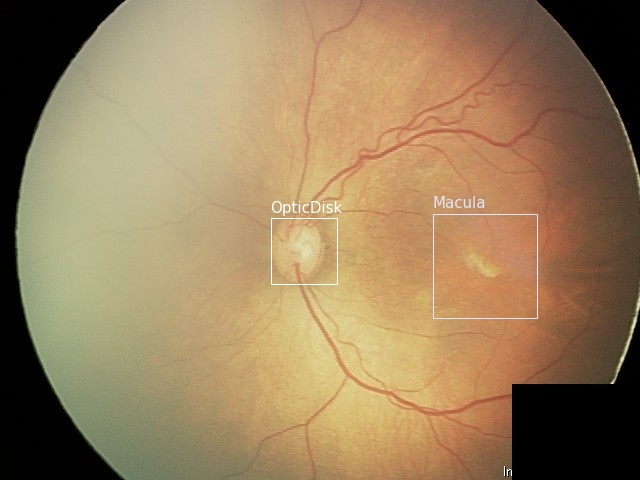Macula: (432, 213, 536, 317)
OpticDisk: (270, 217, 336, 283)
